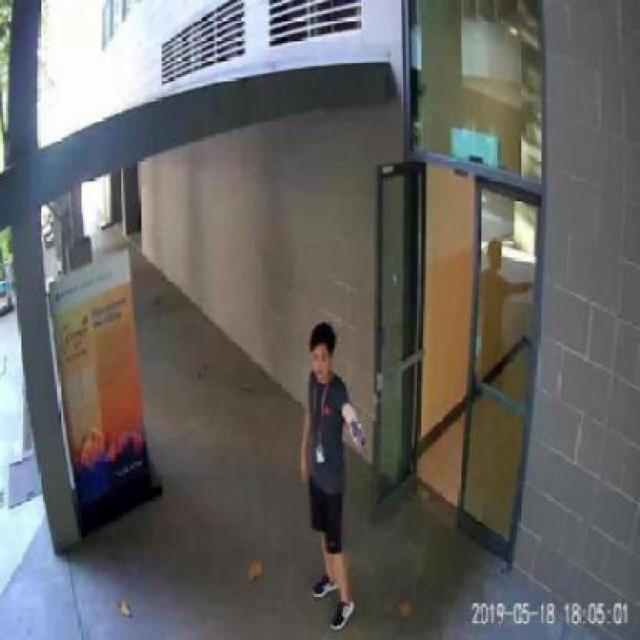gun: (345, 414, 364, 448)
